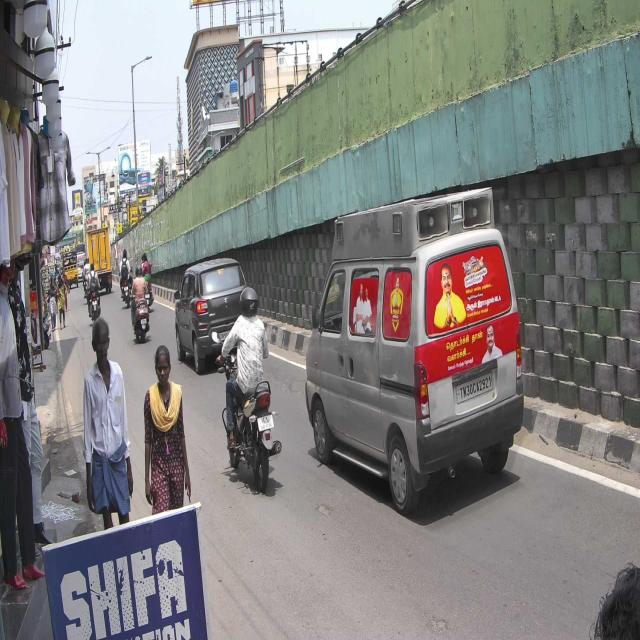single_rider: (213, 285, 282, 493)
